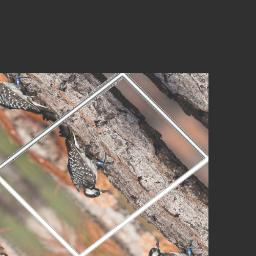Woodpecker: (29, 113, 137, 210)
